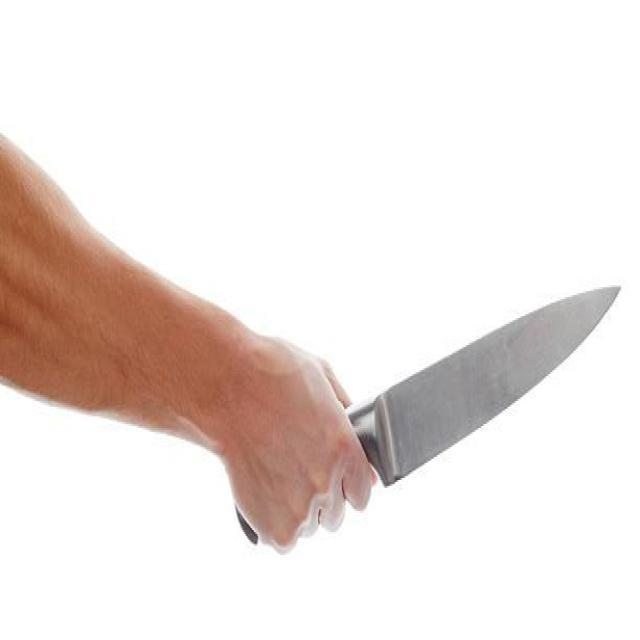faca: (225, 220, 635, 567)
